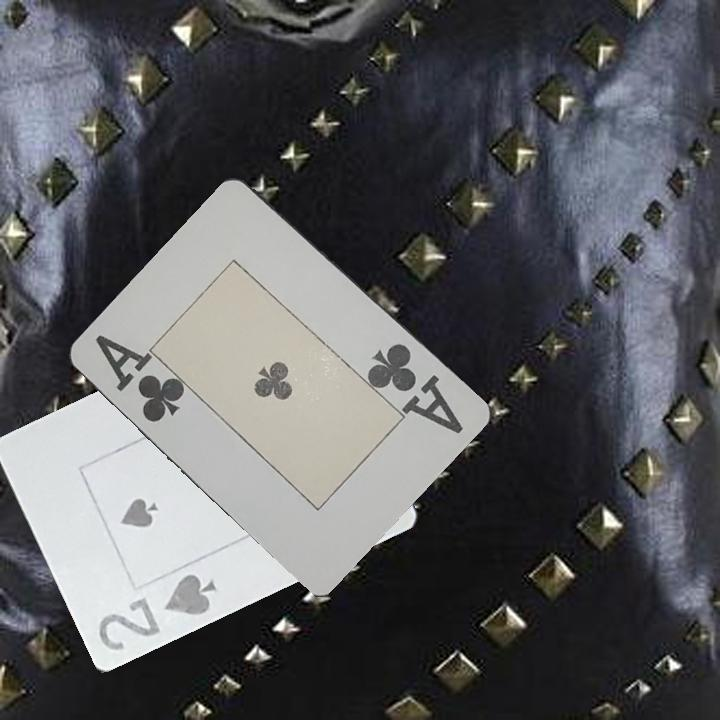2s: (94, 569, 220, 653)
Ac: (365, 339, 467, 437), (92, 331, 188, 427)
